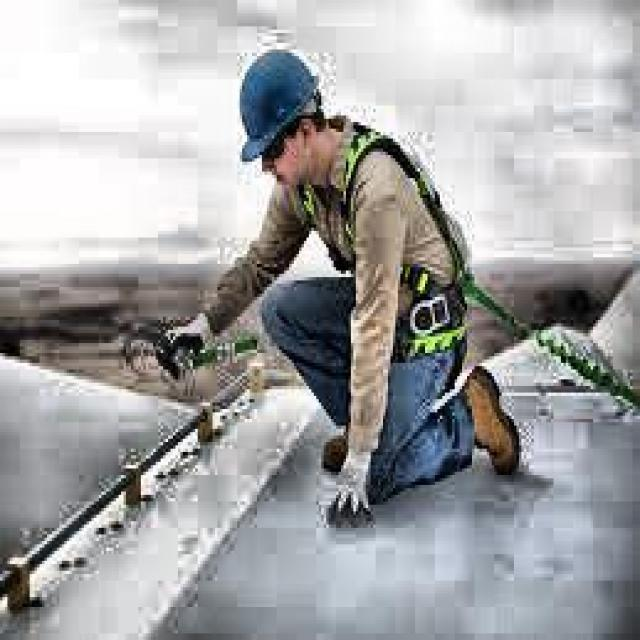belt: (296, 122, 472, 366)
